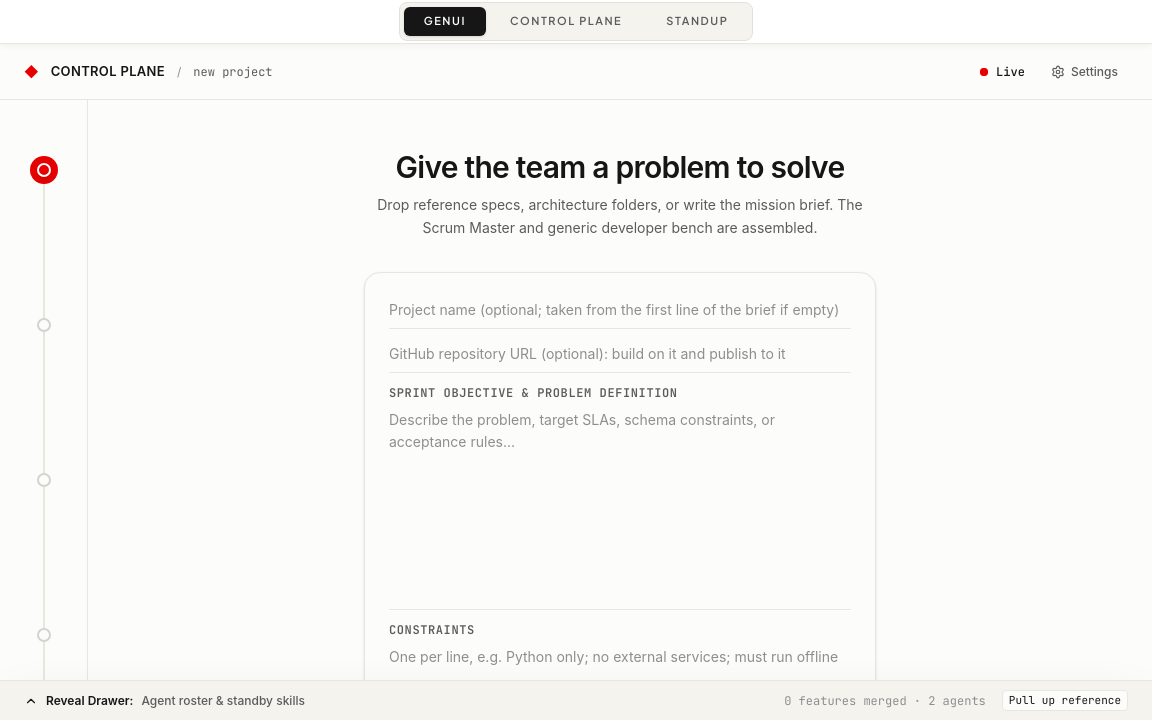
the Memory tab › is only there with a real backend
What coordinates should you click on to do the following:
click the tab "Control Plane"
I would click on:
 (566, 22)
Its box is [490,7,642,36].
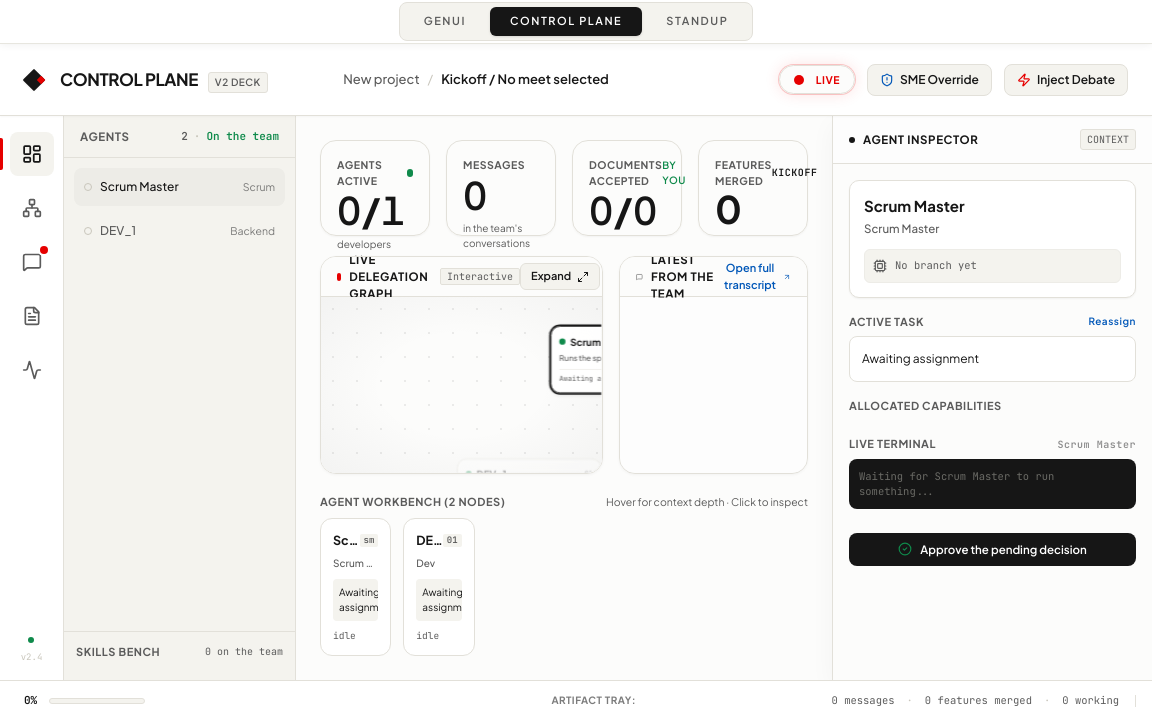
Now the button titled "Inject an architectural challenge into the active meet" is shown, box [1004,64,1128,96]
